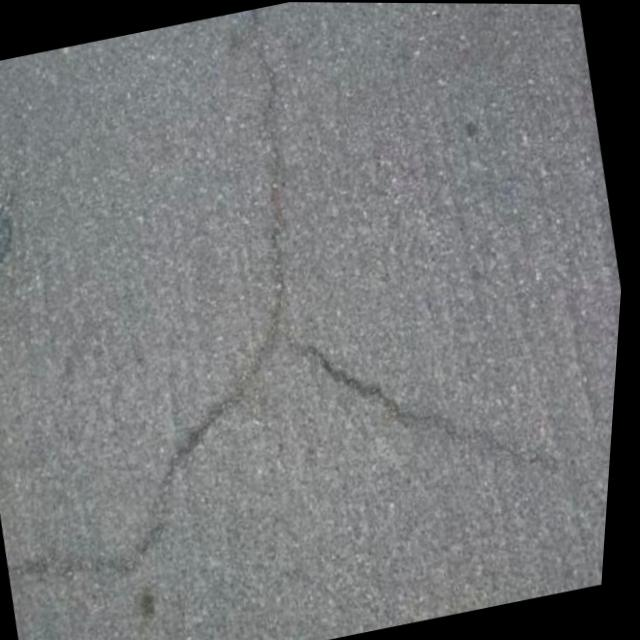Crack: (293, 297, 534, 502), (147, 350, 295, 488), (247, 42, 290, 124)
